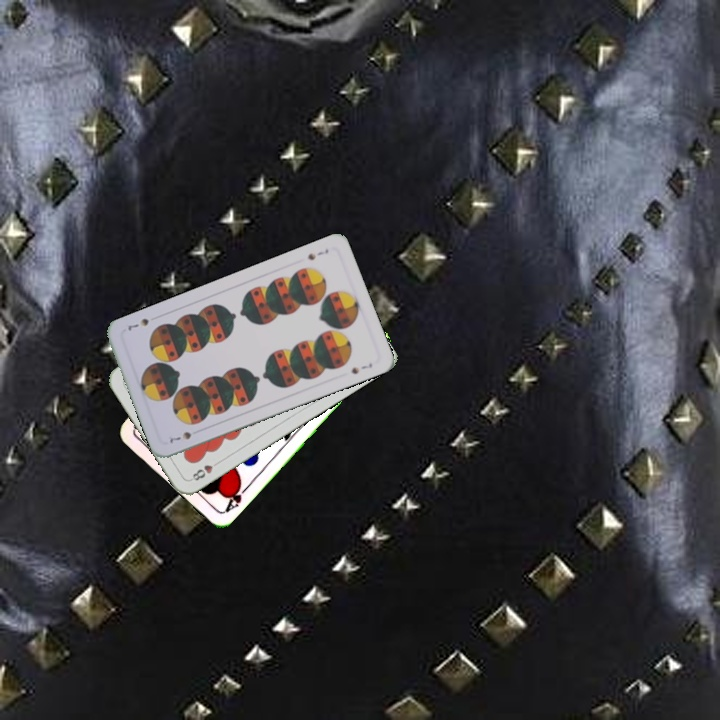H8: (186, 457, 223, 483)
HA: (220, 478, 251, 515)
S7: (303, 244, 331, 263), (165, 427, 194, 445)
